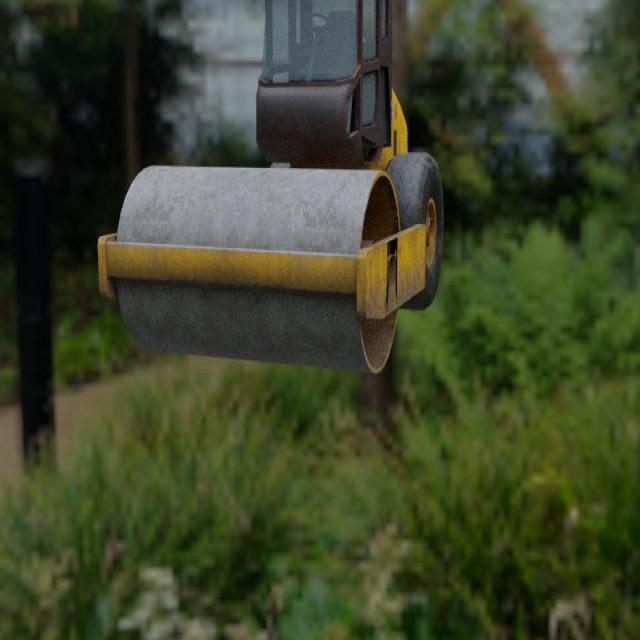Roller: (97, 0, 444, 375)
